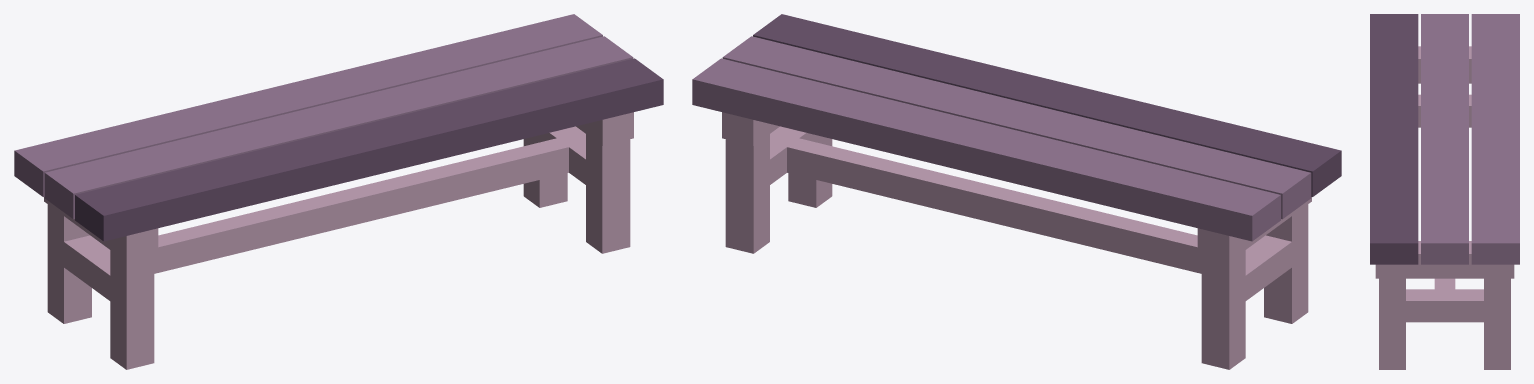
File: TW_BENCH_SIMPLE_A_LOD0.glb
3 views of the same model, side by side, from view 1: azimuth 30°, elevation 25°; view 2: azimuth 150°, elevation 25°; view 3: azimuth 270°, elevation 25° (orthographic). The views are drawn at different scales.
Visible parts, largest first — view 1: TW_BENCH_SIMPLE_A_LOD0; view 2: TW_BENCH_SIMPLE_A_LOD0; view 3: TW_BENCH_SIMPLE_A_LOD0.
Part boxes in pixels (bbox=[...]): TW_BENCH_SIMPLE_A_LOD0: bbox=[14, 14, 663, 369]; TW_BENCH_SIMPLE_A_LOD0: bbox=[692, 14, 1341, 369]; TW_BENCH_SIMPLE_A_LOD0: bbox=[1370, 14, 1519, 369].
Bounding box in the file's own units: 1.6 × 0.45 × 0.442.
Materials: 1 (1 with a texture image).
